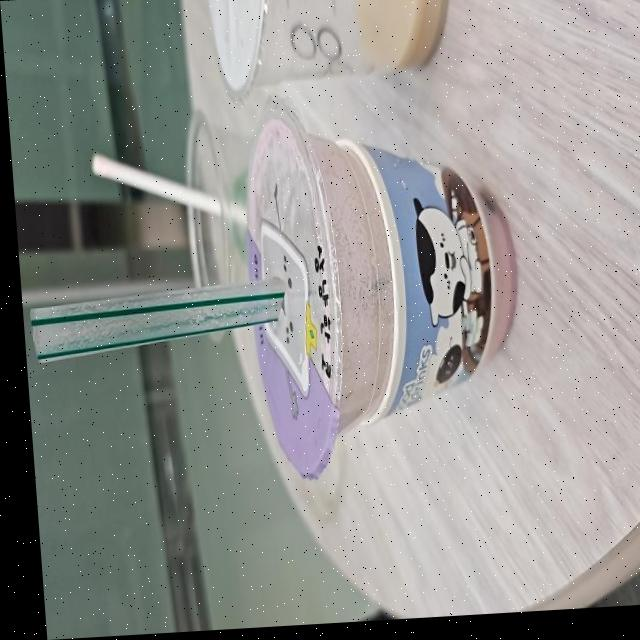cup: (235, 76, 556, 493)
